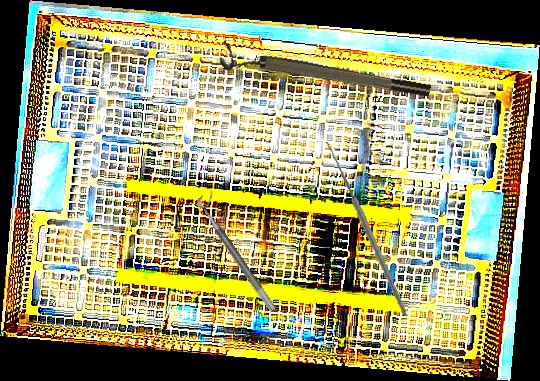Fixation Ring: (218, 41, 432, 109), (194, 189, 286, 313)
Hook Surgical: (299, 140, 425, 316)
